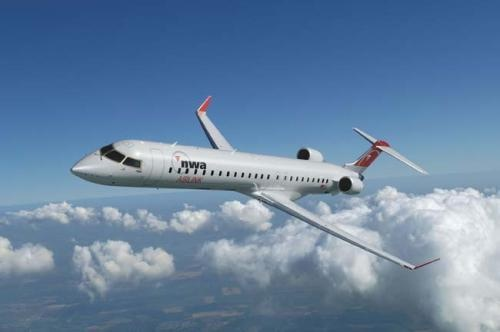airplane: (63, 91, 452, 272)
